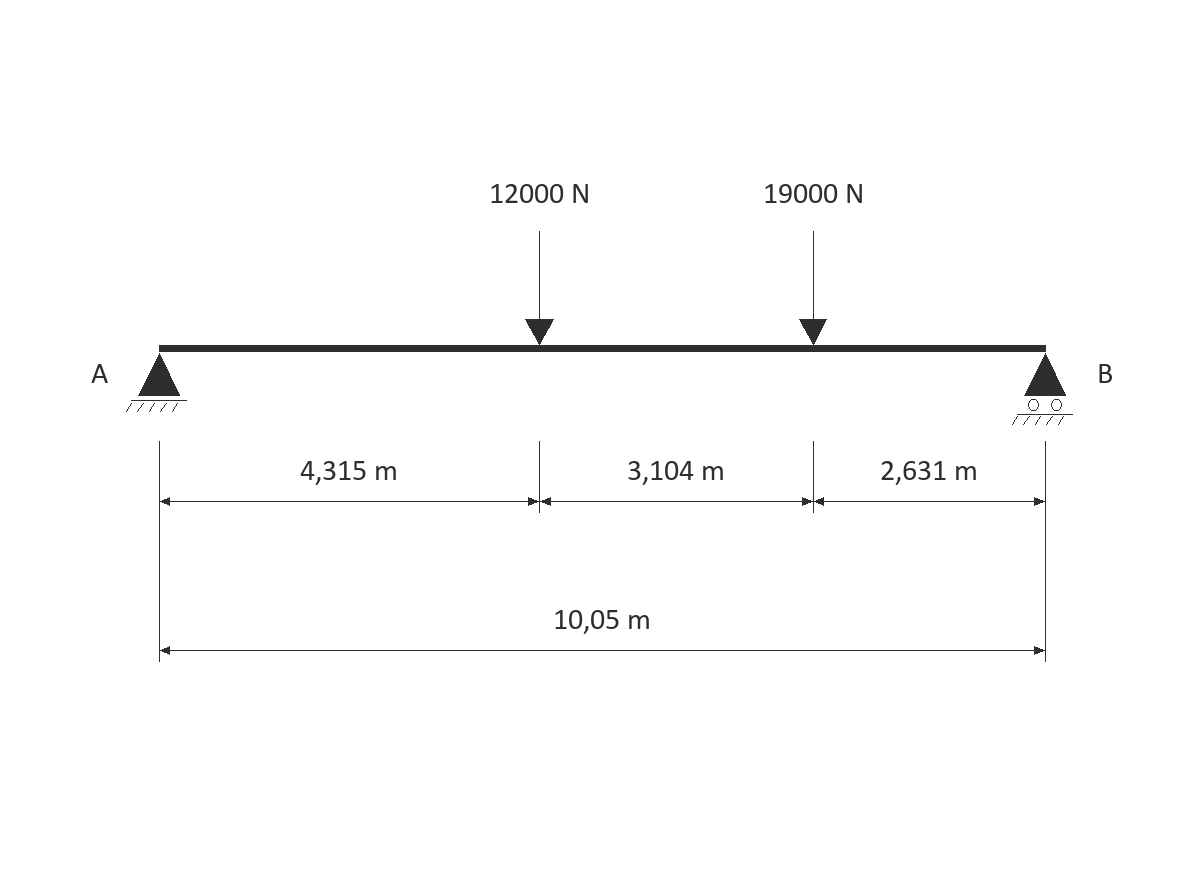pin_support: (126, 353, 187, 412)
point_load: (525, 231, 554, 345), (799, 231, 827, 345)
roller_support: (1012, 353, 1073, 425)
